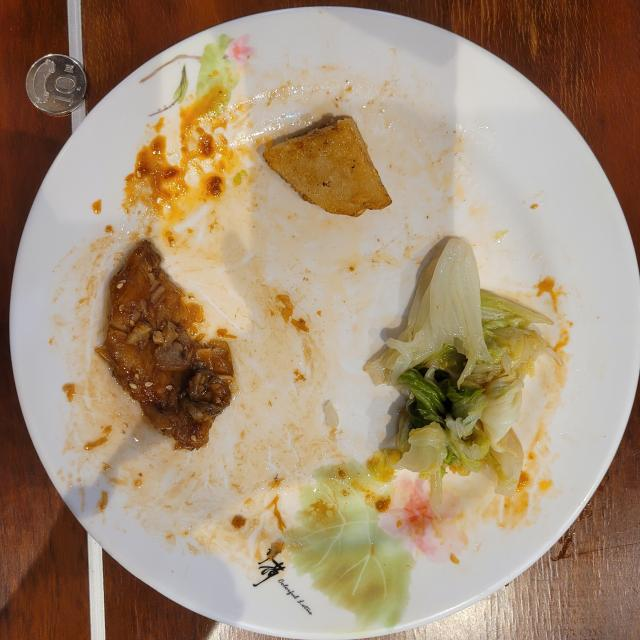Kabayaki sea bream fillet: (96, 240, 234, 450)
cabbage: (365, 238, 551, 514)
coin: (26, 54, 88, 116)
fried potato: (262, 116, 391, 216)
